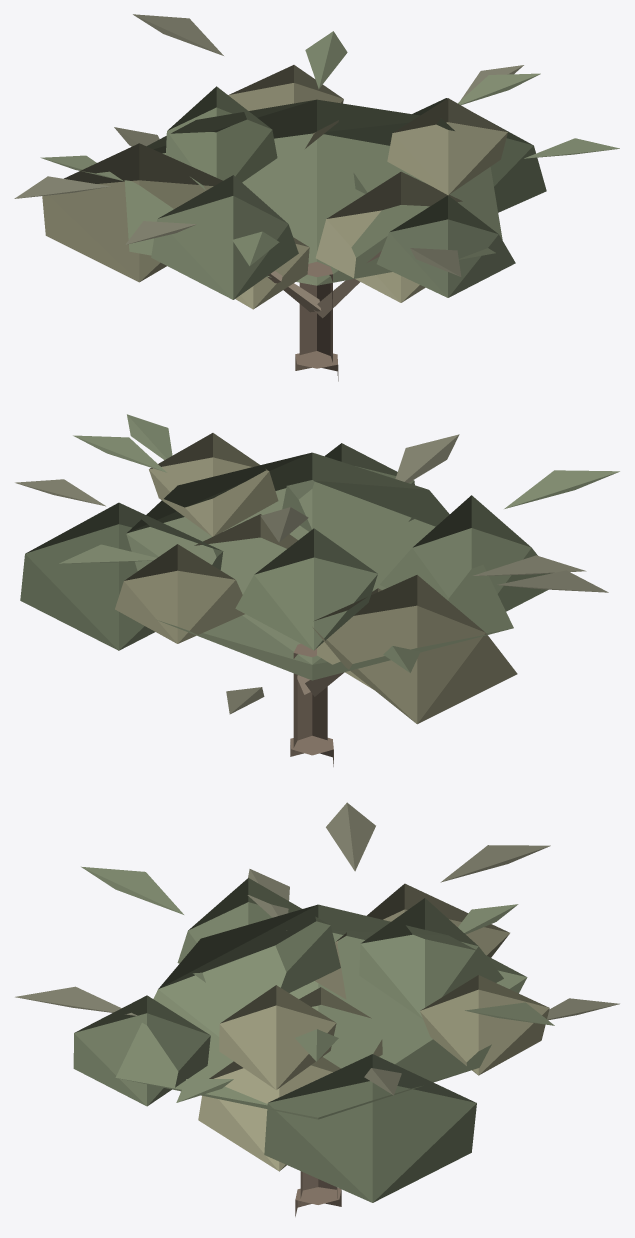
The model's file is shu.cha@subadult__winter.glb.
The picture shows the model from 3 angles, top to bottom: view 1: azimuth 30°, elevation 25°; view 2: azimuth 150°, elevation 25°; view 3: azimuth 270°, elevation 25°; orthographic projection. The views are drawn at different scales.
Parts seen in each view (by area): view 1: shu.cha@subadult__winter; view 2: shu.cha@subadult__winter; view 3: shu.cha@subadult__winter.
Part boxes in pixels (x1,y1,x2,y2): shu.cha@subadult__winter: (14,14,619,381); shu.cha@subadult__winter: (15,414,619,766); shu.cha@subadult__winter: (15,802,619,1216).
Bounding box in the file's own units: 2.6 × 1.41 × 2.37.
